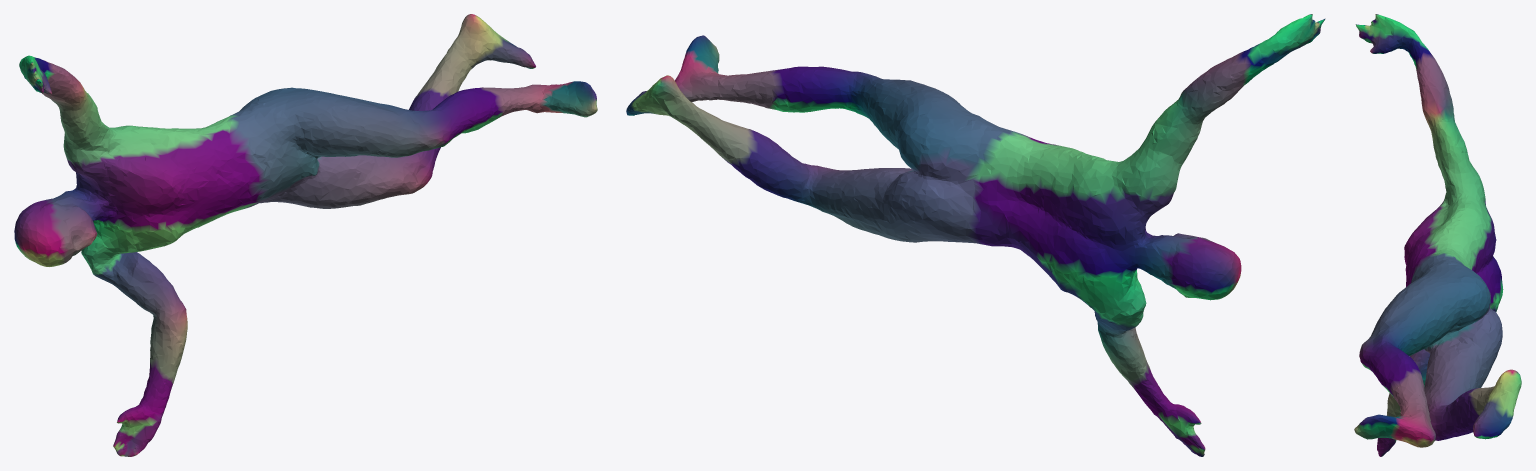
File: man-8.off.obj
3 renders of one model, left to right at view 1: azimuth 30°, elevation 25°; view 2: azimuth 150°, elevation 25°; view 3: azimuth 270°, elevation 25°, orthographic. The views are drawn at different scales.
Size of the model in its own units: 1.54 by 1.1 by 0.4234.
